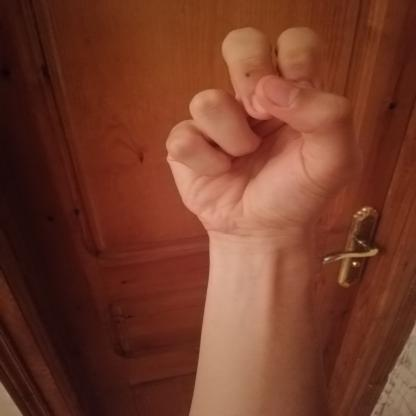QAAF: (140, 12, 374, 254)
